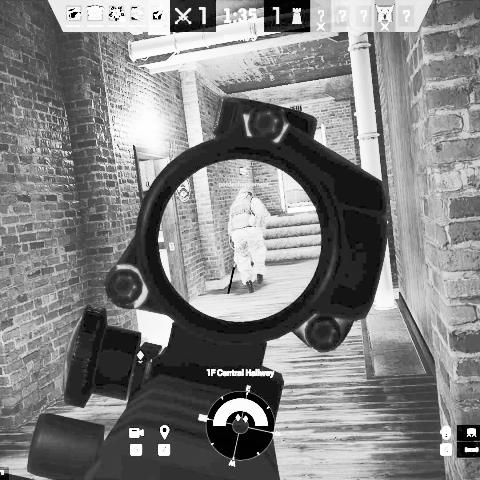Character: (227, 187, 273, 294)
Friend_label: (218, 165, 271, 188)
Head: (238, 188, 253, 198)
